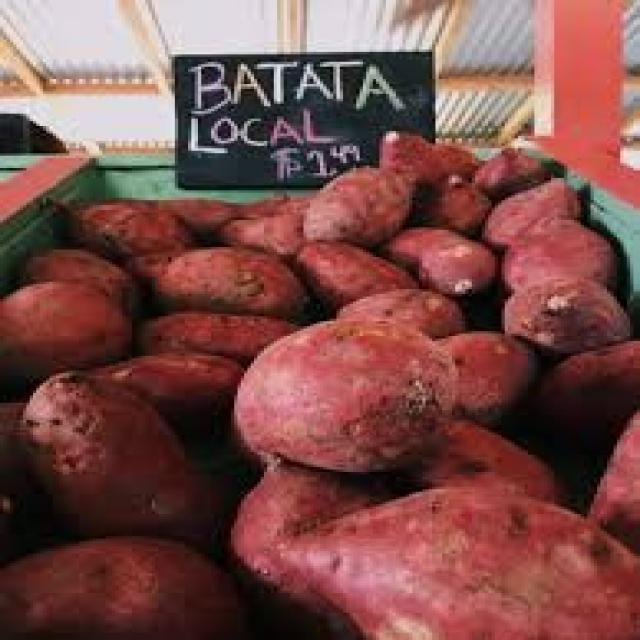organic waste: (284, 484, 636, 638), (224, 314, 456, 467), (221, 457, 409, 638), (23, 366, 211, 538), (0, 531, 238, 638), (215, 210, 412, 314), (504, 336, 636, 487), (390, 413, 554, 504), (389, 418, 561, 497), (116, 244, 300, 314), (0, 276, 129, 371), (429, 324, 538, 425), (109, 195, 287, 250), (498, 274, 630, 348), (43, 193, 191, 259), (92, 349, 238, 415), (577, 401, 637, 558), (300, 160, 412, 244), (129, 306, 300, 361), (498, 213, 614, 294), (0, 396, 66, 536), (284, 237, 406, 309), (20, 245, 138, 311), (382, 228, 492, 296), (333, 284, 459, 341), (478, 176, 574, 247), (409, 173, 488, 230), (370, 126, 446, 183), (468, 141, 551, 190), (429, 136, 482, 170), (264, 190, 313, 218)
